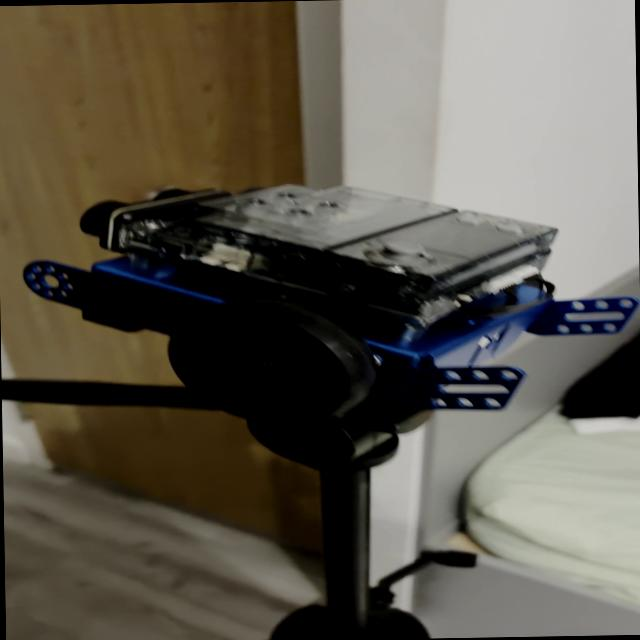mbot-detection: (0, 165, 640, 442)
